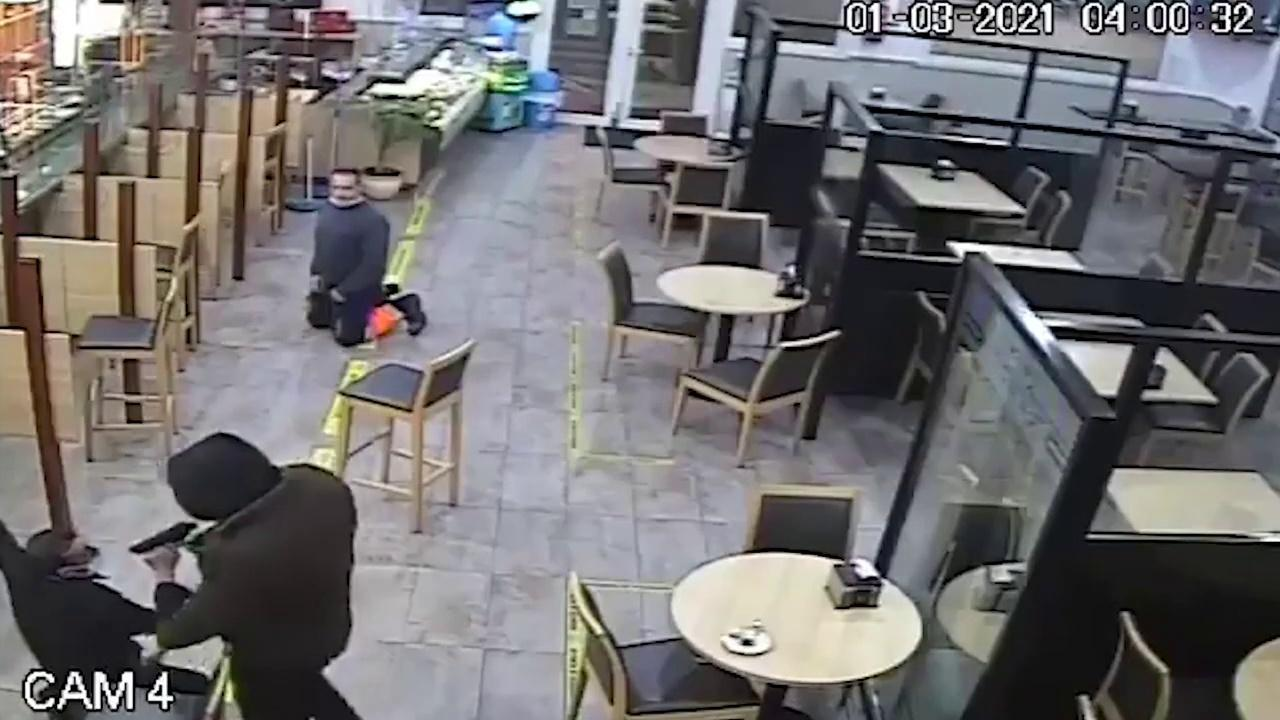Guns perspective: (132, 519, 166, 540), (158, 517, 165, 523)
